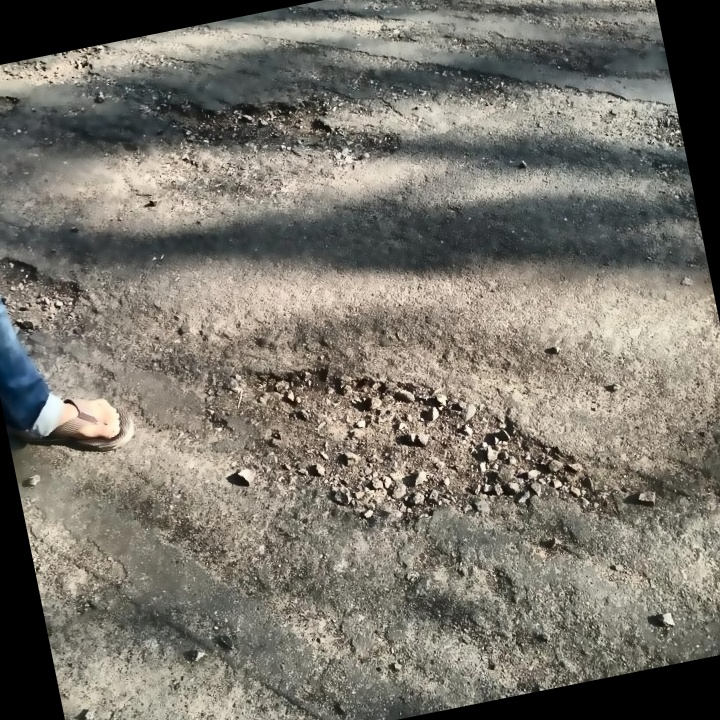pothole: (221, 299, 610, 580), (153, 69, 340, 176), (0, 237, 92, 342), (0, 44, 110, 108), (0, 63, 23, 137)
